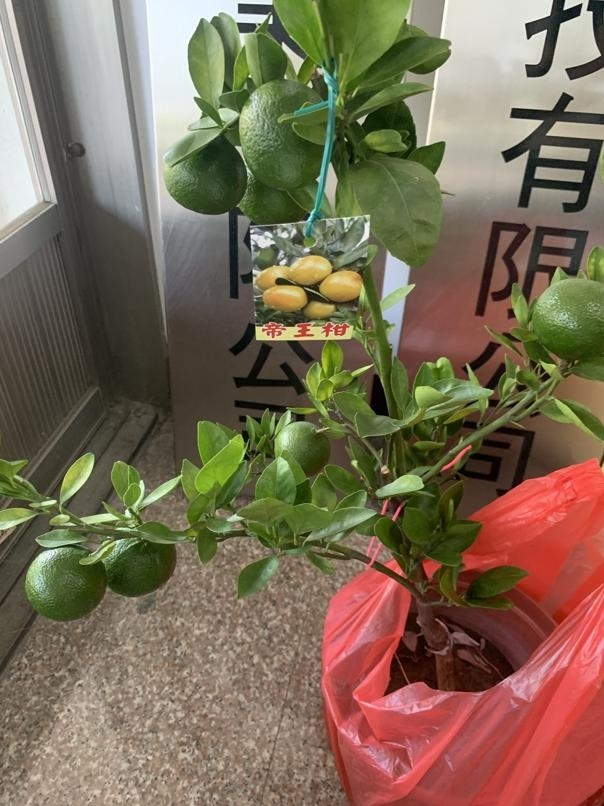Tangerine: (236, 80, 329, 186), (527, 276, 604, 365), (163, 134, 246, 216), (23, 547, 107, 622), (272, 414, 332, 479)
